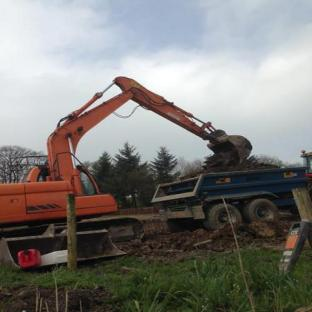ExcavationMachinery: (6, 67, 251, 269)
Vehicle: (150, 149, 312, 234)
